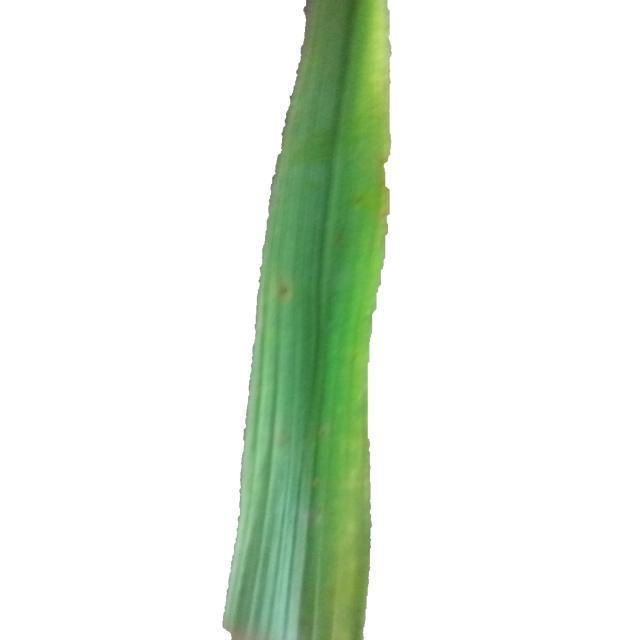Rice Tungro: (304, 3, 389, 640)
